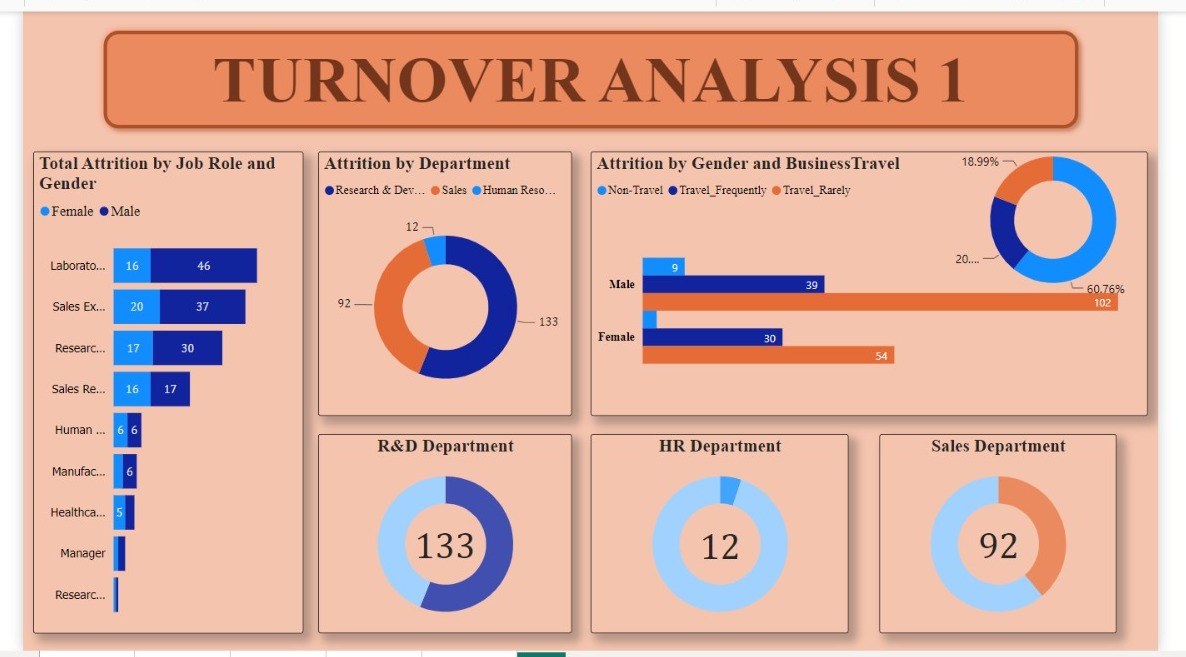

Layout of this report page (visuals, bound fields, positions):
{"tool":"powerbi","page":{"name":"Page 3","canvas":[1280,720],"ordinal":2},"visuals":[{"type":"donutChart","title":"HR Department","fields":{"Y":["All Measure.HR Department","All Measure.Remain Hr"]},"box":[640.3,476.4,290.5,224.9],"z":0},{"type":"donutChart","fields":{"Category":["HR-Employee-Attrition.Distance Status"],"Y":["All Measure.Total Attritation"]},"box":[1041.7,121.8,239,226.5],"z":1000},{"type":"donutChart","title":"Sales Department","fields":{"Y":["All Measure.Sales Department","All Measure.Remain Sales"]},"box":[965.2,476.4,267.1,224.9],"z":2000},{"type":"donutChart","title":"R&D Department ","fields":{"Y":["All Measure.R&D Department","All Measure.Remain R & D"]},"box":[332.7,476.4,285.8,224.9],"z":3000},{"type":"shape","box":[81.2,12.5,1116.7,128.1],"z":4000},{"type":"barChart","title":"Total Attrition by Job Role and Gender","fields":{"Category":["HR-Employee-Attrition.JobRole"],"Y":["All Measure.Total Attritation"],"Series":["HR-Employee-Attrition.Gender"]},"box":[10.9,157.7,304.6,543.5],"z":5000},{"type":"donutChart","title":"Attrition by Department","fields":{"Y":["All Measure.Total Attritation"],"Category":["HR-Employee-Attrition.Department"]},"box":[332.7,157.7,285.8,298.3],"z":6000},{"type":"clusteredBarChart","title":"Attrition by Gender and BusinessTravel","fields":{"Y":["All Measure.Total Attritation"],"Category":["HR-Employee-Attrition.Gender"],"Series":["HR-Employee-Attrition.BusinessTravel"]},"box":[640.3,157.7,627.9,298.3],"z":7000},{"type":"card","fields":{"Values":["All Measure.HR Department"]},"box":[745,566.9,79.7,67.2],"z":8000},{"type":"card","fields":{"Values":["All Measure.R&D Department"]},"box":[435.7,565.4,79.7,68.7],"z":9000},{"type":"card","fields":{"Values":["All Measure.Sales Department"]},"box":[1058.9,565.4,79.7,68.7],"z":10000}]}

Visuals, with their boxes in screenshot pixels (x1, y1, x2, y2), scaled from the page's 1280x720 canvas onto the 1186x657 screenshot:
"HR Department" donutChart: rect(593, 435, 862, 640)
donutChart - HR-Employee-Attrition.Distance Status x All Measure.Total Attritation: rect(965, 111, 1185, 318)
"Sales Department" donutChart: rect(894, 435, 1142, 640)
"R&D Department " donutChart: rect(308, 435, 573, 640)
shape: rect(75, 11, 1110, 128)
"Total Attrition by Job Role and Gender" barChart: rect(10, 144, 292, 640)
"Attrition by Department" donutChart: rect(308, 144, 573, 416)
"Attrition by Gender and BusinessTravel" clusteredBarChart: rect(593, 144, 1175, 416)
card - All Measure.HR Department: rect(690, 517, 764, 579)
card - All Measure.R&D Department: rect(404, 516, 478, 579)
card - All Measure.Sales Department: rect(981, 516, 1055, 579)
